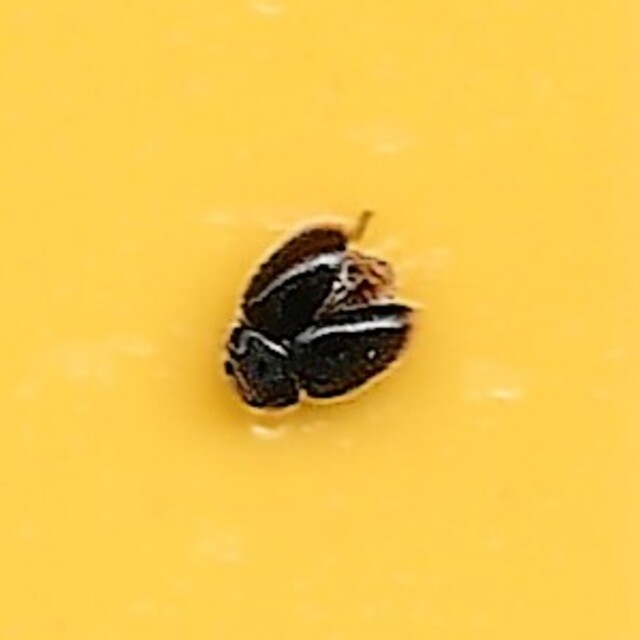Coleoptera: (213, 220, 427, 420)
